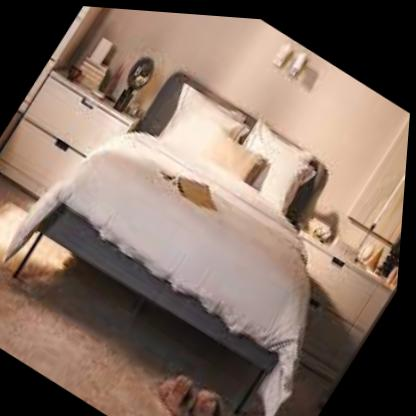Bed: (0, 3, 416, 416)
